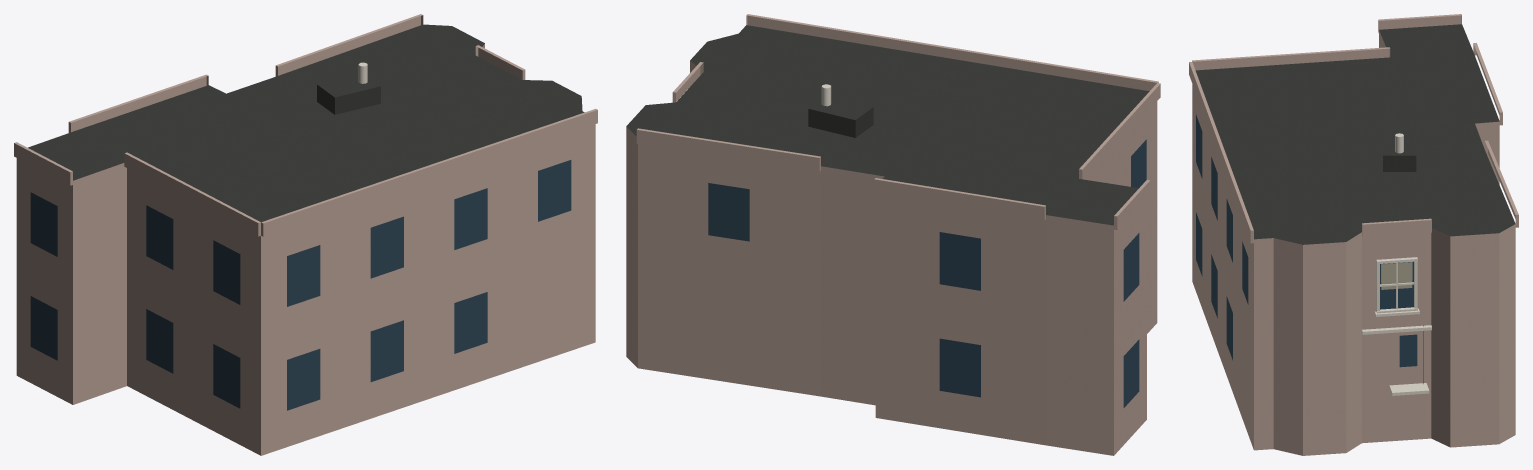
3 views of the same model, side by side, from view 1: azimuth 30°, elevation 25°; view 2: azimuth 150°, elevation 25°; view 3: azimuth 270°, elevation 25° (orthographic). The views are drawn at different scales.
Visible parts, largest first — view 1: Footprint 0 / surface 2, Footprint 0 / surface 1, Inset glazing, Facade bay volumes, Inferred rooftop service enclosure / surface 5, Inferred rooftop service enclosure / surface 3; view 2: Footprint 0 / surface 2, Footprint 0 / surface 1, Facade bay volumes, Inset glazing, Inferred rooftop service enclosure / surface 6, Inferred rooftop service enclosure / surface 3; view 3: Footprint 0 / surface 2, Footprint 0 / surface 1, Facade bay volumes, Inset glazing, Cornices and window frames, Interior blind variation, Inferred rooftop service enclosure / surface 3, Inferred rooftop service enclosure / surface 1.
Boxes of the visible parts, x1=… form: Footprint 0 / surface 2: x1=16, y1=44, x2=595, y2=455; Footprint 0 / surface 1: x1=28, y1=24, x2=584, y2=222; Inset glazing: x1=30, y1=160, x2=571, y2=410; Facade bay volumes: x1=14, y1=14, x2=597, y2=236; Inferred rooftop service enclosure / surface 5: x1=335, y1=86, x2=380, y2=114; Inferred rooftop service enclosure / surface 3: x1=317, y1=74, x2=380, y2=97; Footprint 0 / surface 2: x1=626, y1=61, x2=1157, y2=455; Footprint 0 / surface 1: x1=626, y1=25, x2=1149, y2=225; Facade bay volumes: x1=636, y1=14, x2=1160, y2=230; Inset glazing: x1=708, y1=139, x2=1146, y2=407; Inferred rooftop service enclosure / surface 6: x1=808, y1=109, x2=855, y2=137; Inferred rooftop service enclosure / surface 3: x1=808, y1=96, x2=873, y2=119; Footprint 0 / surface 2: x1=1192, y1=30, x2=1515, y2=455; Footprint 0 / surface 1: x1=1195, y1=24, x2=1515, y2=244; Facade bay volumes: x1=1189, y1=14, x2=1518, y2=243; Inset glazing: x1=1196, y1=115, x2=1417, y2=367; Cornices and window frames: x1=1362, y1=257, x2=1431, y2=395; Interior blind variation: x1=1381, y1=262, x2=1412, y2=289; Inferred rooftop service enclosure / surface 3: x1=1383, y1=134, x2=1416, y2=155; Inferred rooftop service enclosure / surface 1: x1=1383, y1=155, x2=1416, y2=171.
Size of the model in its own units: 18.88 by 9.67 by 11.85.
